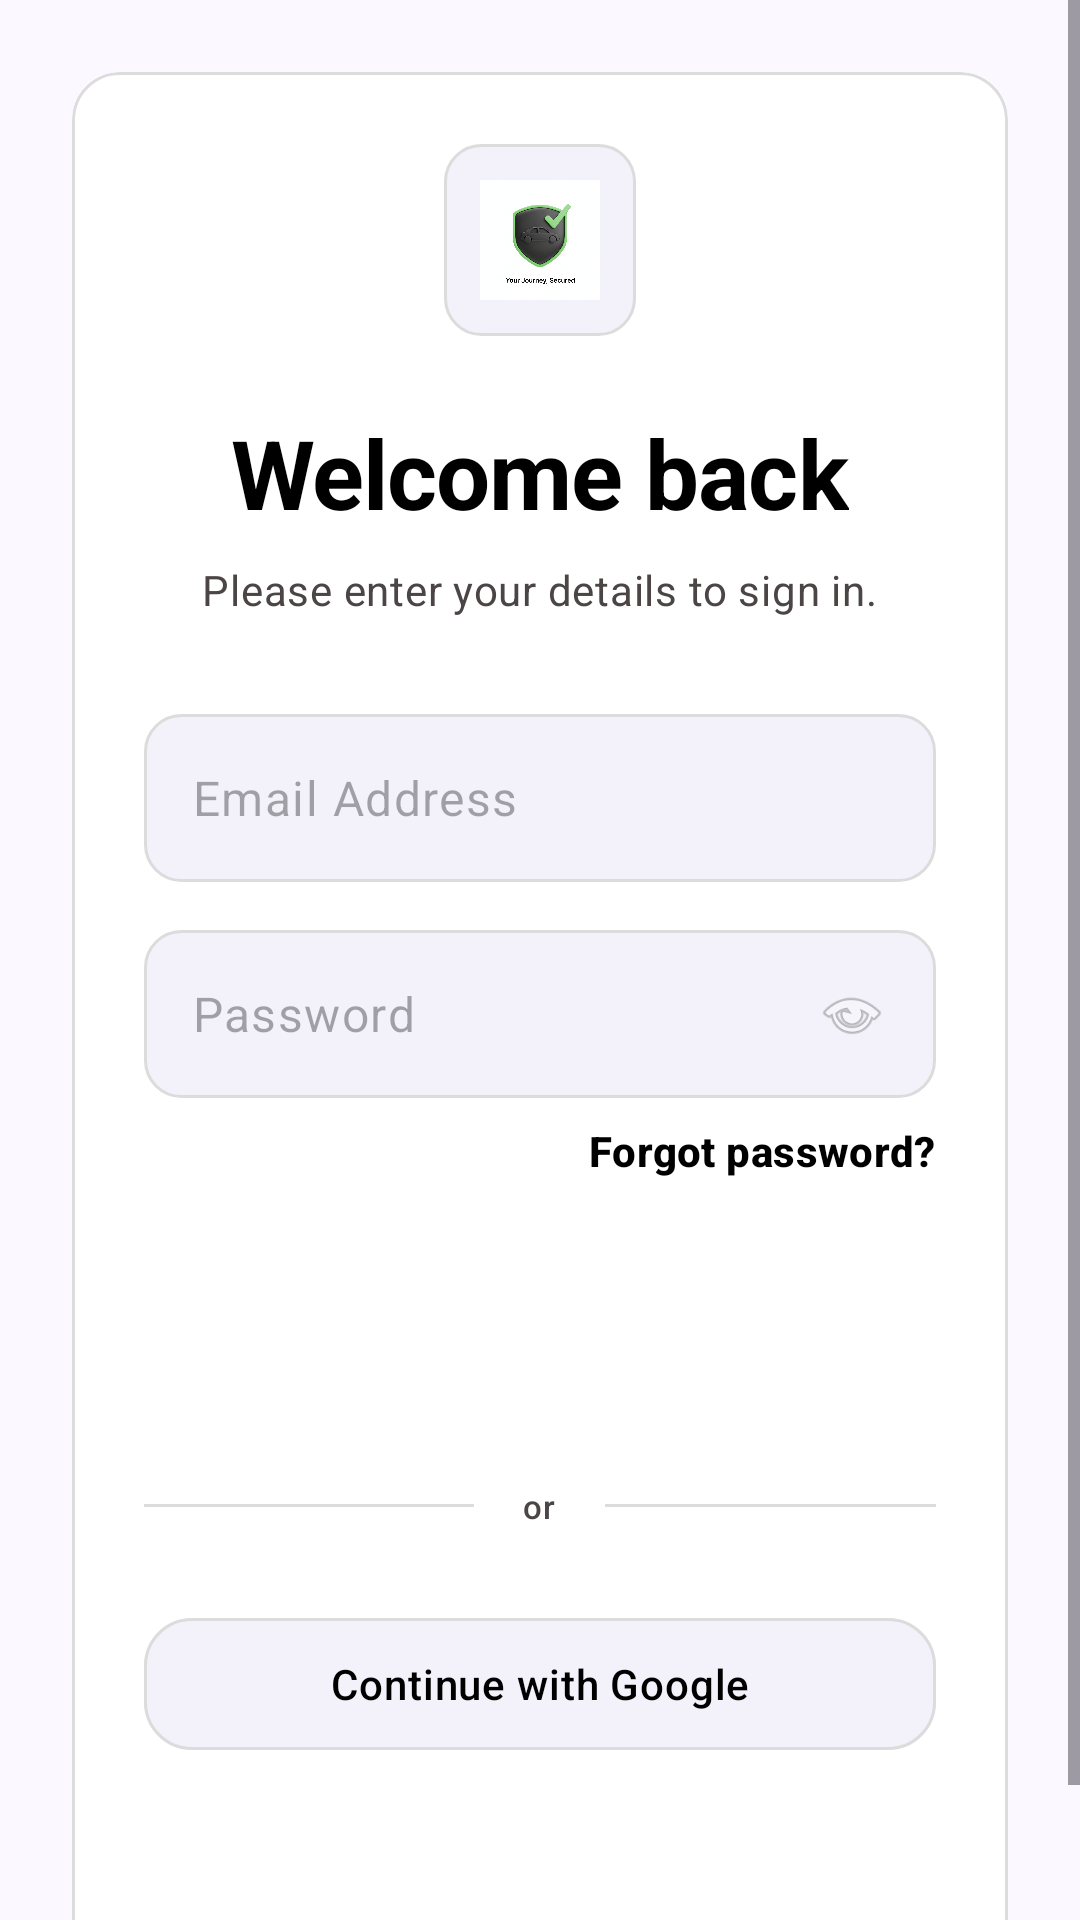

Locate icon controls on the screen. Image size 1080x1920, boxes as [x1, y1, x2, y2].
view: [823, 998, 881, 1034]
